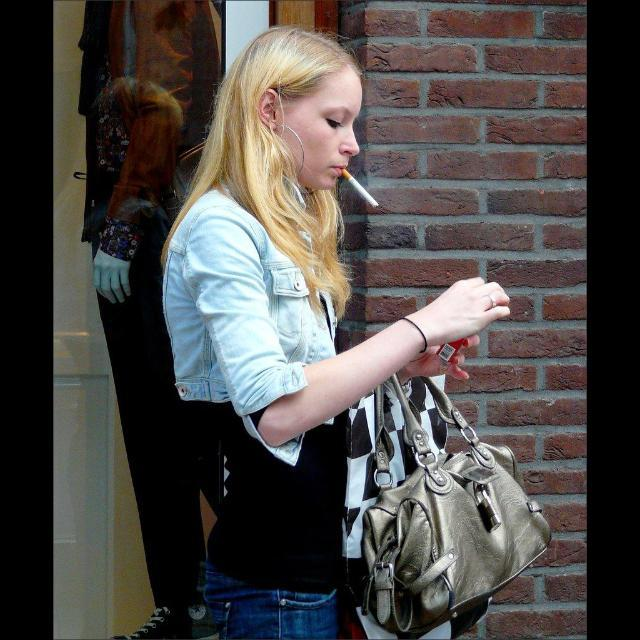rokok: (341, 169, 385, 215)
